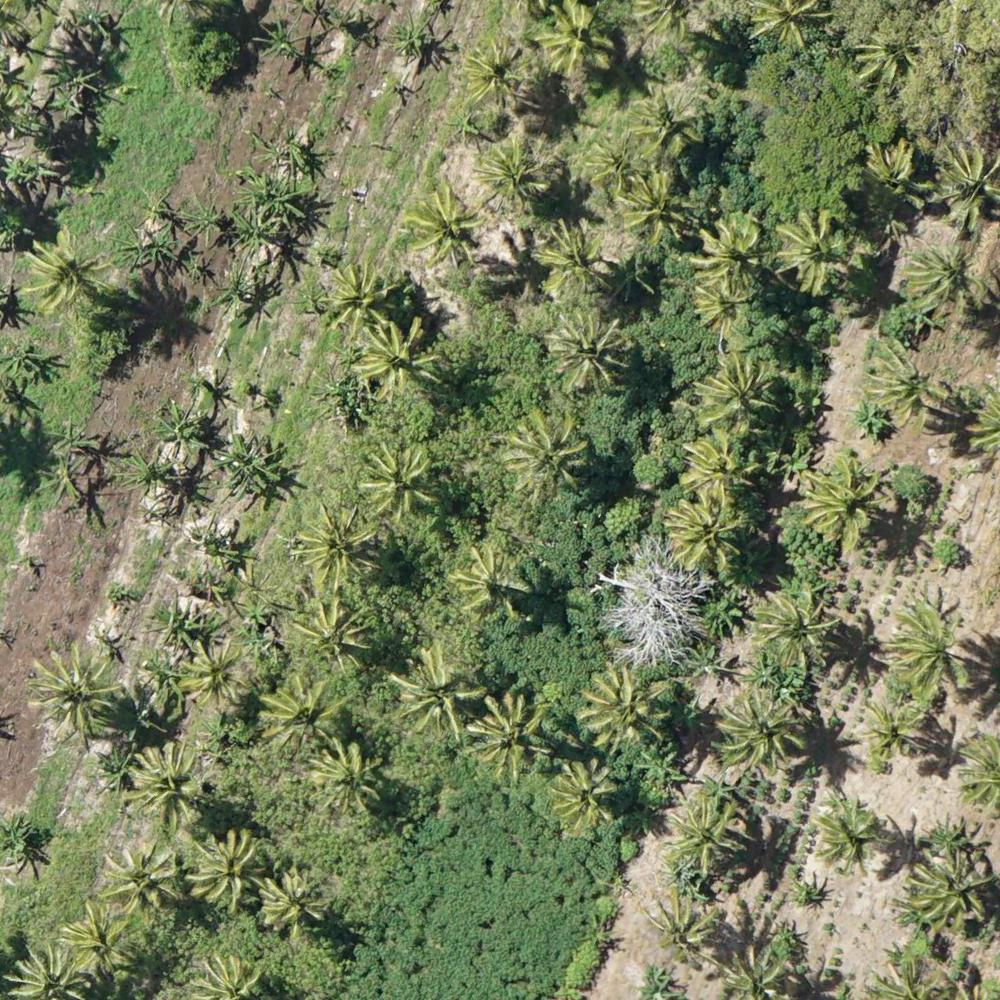Palm: (392, 645, 486, 739), (887, 600, 975, 697), (32, 643, 116, 741), (575, 663, 669, 747), (713, 692, 808, 774), (298, 507, 386, 592), (97, 836, 186, 917), (23, 229, 106, 314), (800, 463, 884, 543), (469, 695, 550, 777), (128, 745, 207, 828), (549, 311, 628, 394), (290, 595, 371, 675), (458, 32, 535, 116), (751, 590, 832, 669), (775, 211, 854, 292), (445, 543, 529, 619), (697, 354, 776, 434), (904, 245, 984, 324), (504, 410, 581, 492), (261, 675, 345, 750), (865, 346, 946, 422), (640, 889, 721, 963), (538, 224, 616, 299), (62, 905, 139, 980), (538, 4, 617, 77), (857, 136, 930, 215), (473, 136, 555, 206), (362, 326, 439, 400), (664, 500, 738, 576), (173, 635, 250, 708), (916, 854, 991, 928), (311, 743, 388, 815), (411, 189, 481, 268), (857, 693, 935, 763), (319, 265, 399, 333), (366, 441, 439, 515), (696, 215, 767, 289), (621, 174, 696, 244), (936, 143, 1000, 225), (192, 831, 261, 905), (547, 758, 616, 832), (664, 798, 736, 868), (583, 129, 654, 197), (818, 799, 884, 869), (259, 877, 331, 941), (682, 438, 754, 500), (632, 88, 697, 150), (852, 29, 916, 88)
